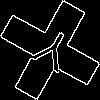Y: (25, 25, 77, 82)
